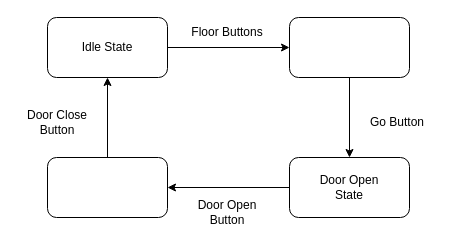
The diagram is 454 pixels wide and 245 high, and some of its shapes have lost their labels. Each missing label, with the box of its shape:
Door Close State: (46, 156, 168, 218)
Moving State: (288, 16, 410, 78)
